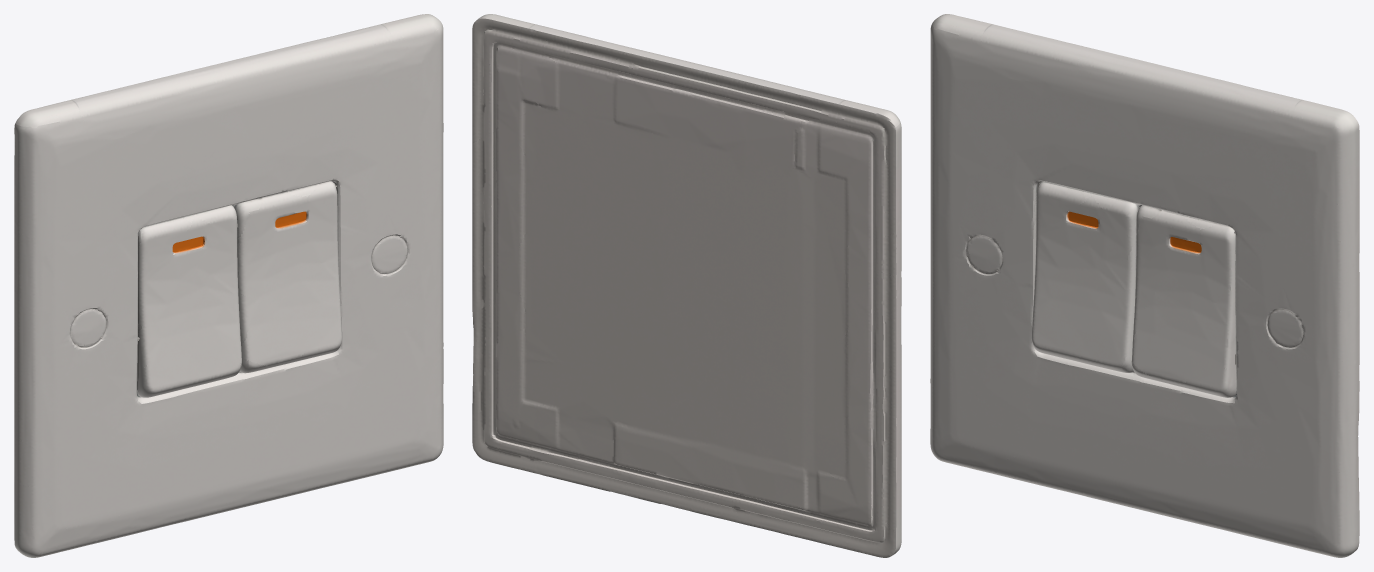
Rendered from original-switch.glb.
The picture shows the model from 3 angles, left to right: view 1: azimuth 30°, elevation 25°; view 2: azimuth 150°, elevation 25°; view 3: azimuth 330°, elevation 25°; orthographic projection.
Visible parts, largest first — view 1: Mesh_0; view 2: Mesh_0; view 3: Mesh_0.
Boxes of the visible parts, bbox=[...] form: Mesh_0: bbox=[14, 14, 443, 557]; Mesh_0: bbox=[472, 14, 901, 557]; Mesh_0: bbox=[930, 14, 1359, 557].
Size of the model in its own units: 1.9 by 1.9 by 0.1602.
Materials: 1 (1 with a texture image).
